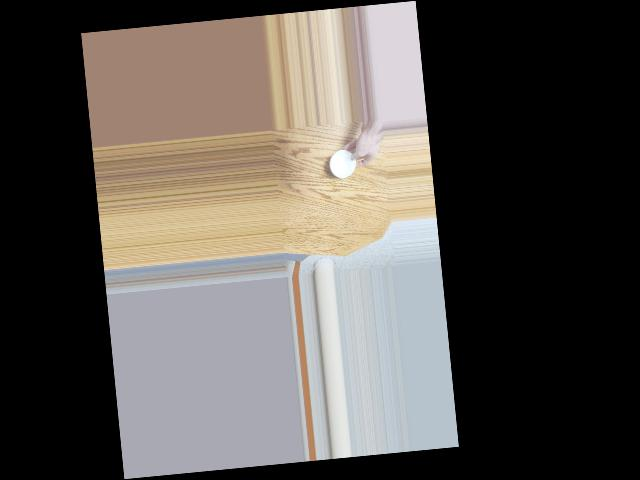cotage: (327, 144, 361, 181)
